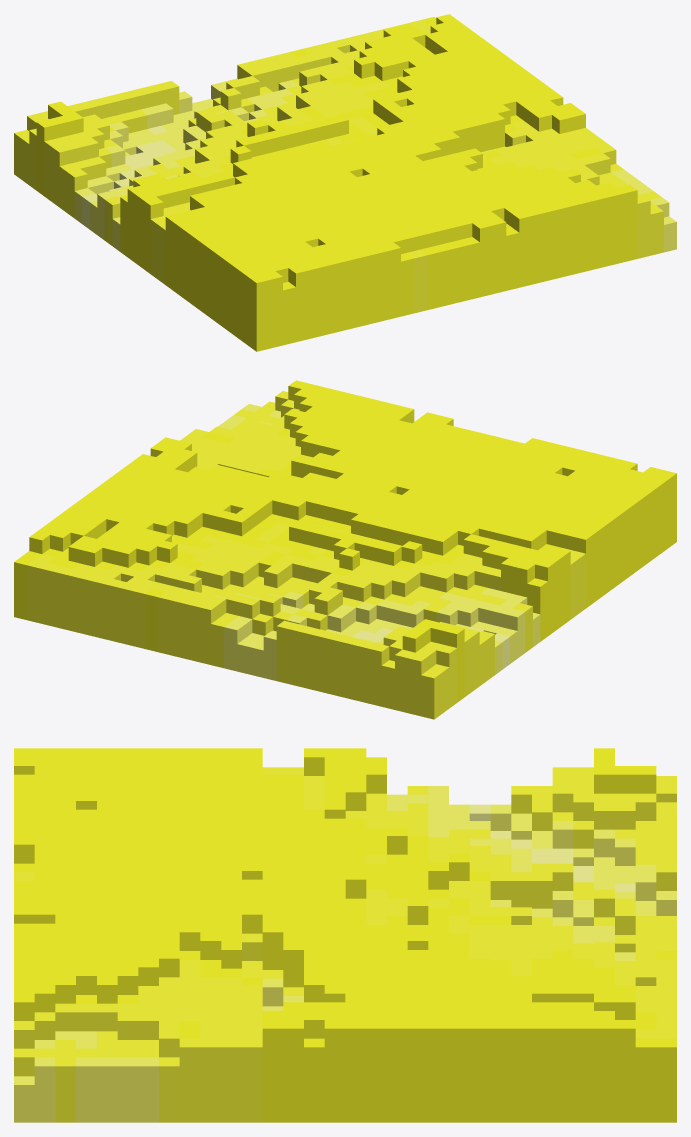
File: Destert Map-5.obj
3 renders of one model, top to bottom at view 1: azimuth 30°, elevation 25°; view 2: azimuth 150°, elevation 25°; view 3: azimuth 270°, elevation 25°, orthographic. The views are drawn at different scales.
Size of the model in its own units: 3.2 by 0.5 by 3.2.
1 material, 1 textured.
